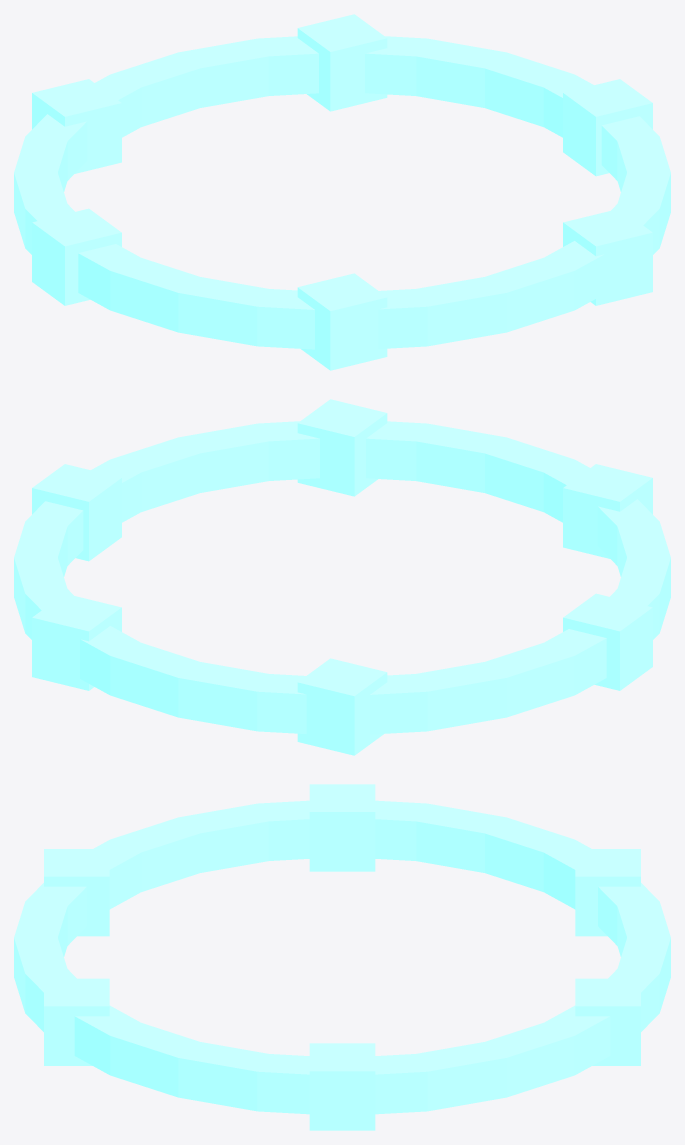
Rendered from waystone_ring.fbx.
3 views of the same model, one above another, from view 1: azimuth 30°, elevation 25°; view 2: azimuth 150°, elevation 25°; view 3: azimuth 270°, elevation 25° (orthographic).
Visible parts, largest first — view 1: waystone_ring; view 2: waystone_ring; view 3: waystone_ring.
Part boxes in pixels (box(x1,y1,x2,y2)): waystone_ring: box(14, 14, 670, 370); waystone_ring: box(14, 399, 670, 755); waystone_ring: box(14, 784, 670, 1130).
Size of the model in its own units: 620 by 60 by 600.
